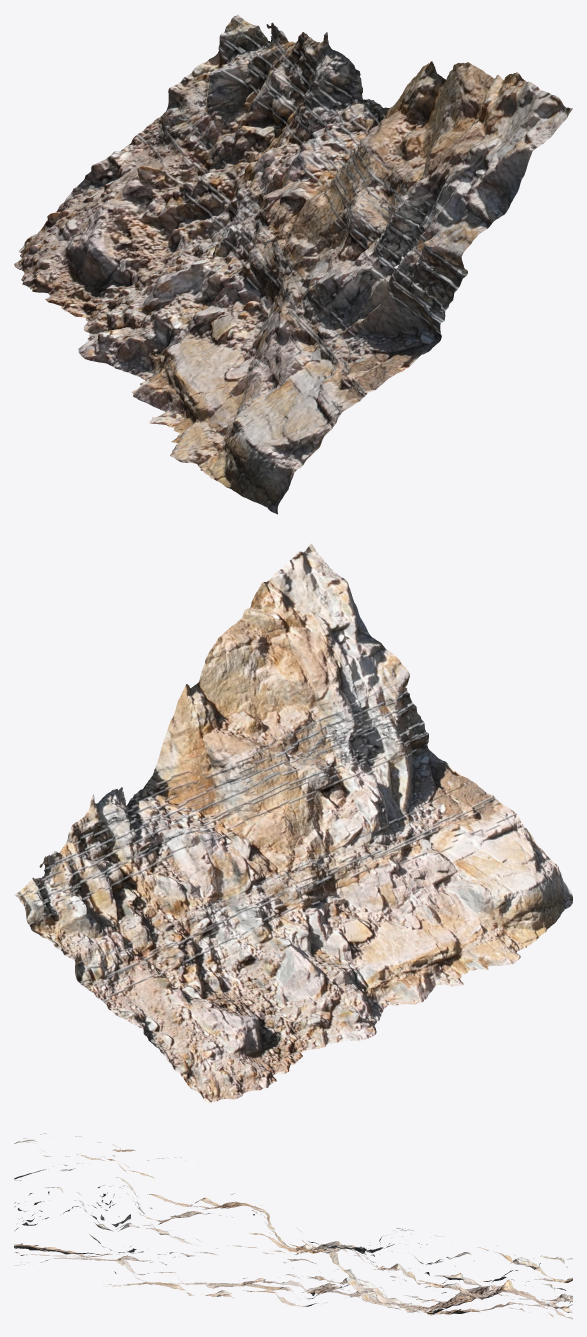
The picture shows the model from 3 angles, top to bottom: view 1: azimuth 30°, elevation 25°; view 2: azimuth 150°, elevation 25°; view 3: azimuth 270°, elevation 25°; orthographic projection. The views are drawn at different scales.
Bounding box in the file's own units: 4.15 × 4.2 × 7.63.
Materials: 2 (2 with a texture image).
